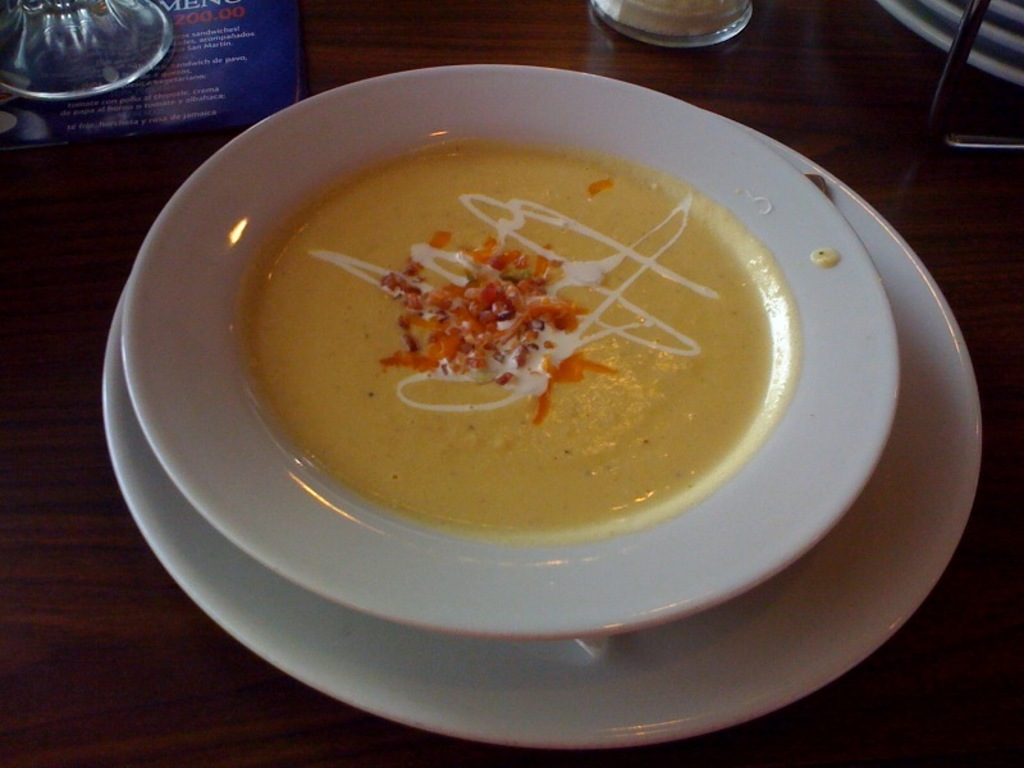plate: (112, 106, 990, 737), (121, 52, 893, 620)
